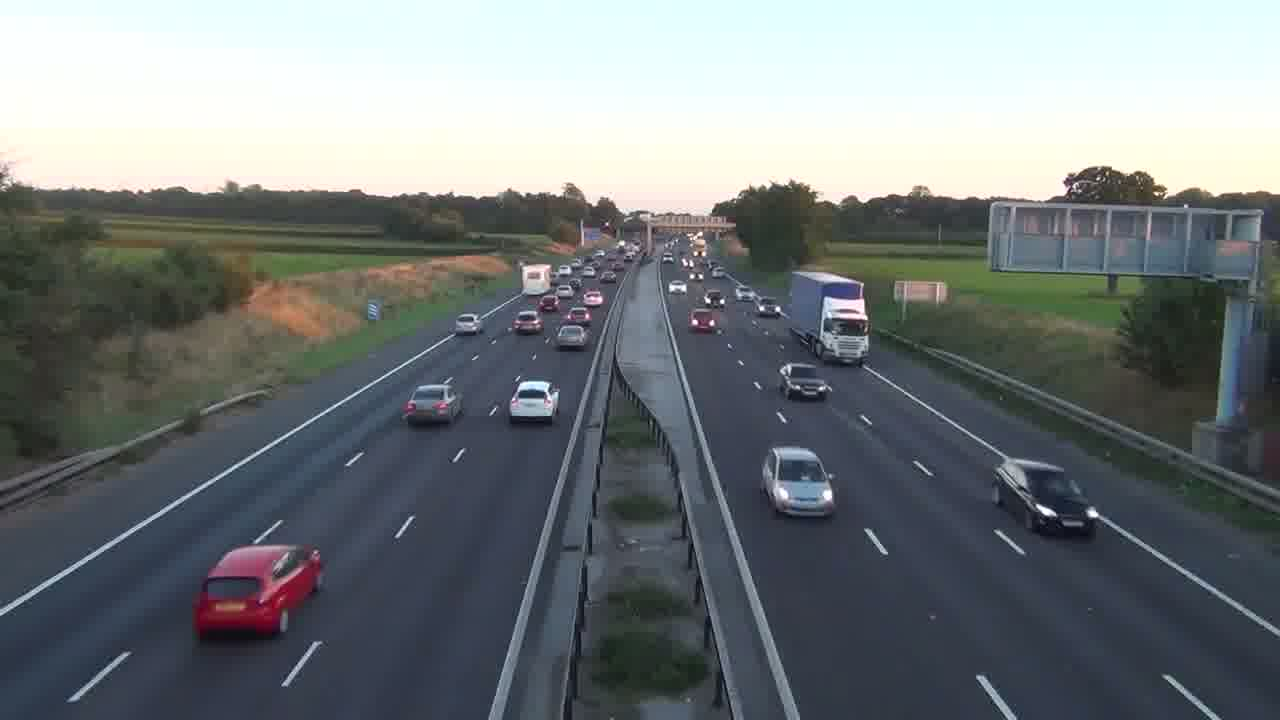car: (192, 543, 323, 639), (992, 456, 1099, 537), (760, 446, 837, 518), (401, 379, 465, 426), (508, 380, 561, 425), (777, 361, 833, 402), (555, 323, 590, 350), (512, 308, 542, 334), (455, 312, 483, 335), (538, 293, 561, 313)
truck: (785, 269, 871, 365)
